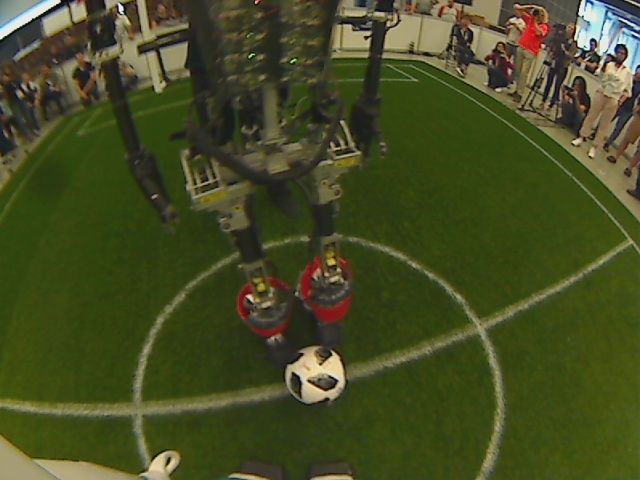ball: (282, 343, 351, 408)
